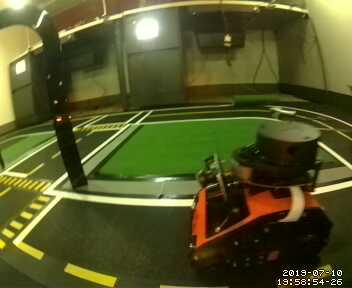pheeno: (185, 118, 334, 261)
